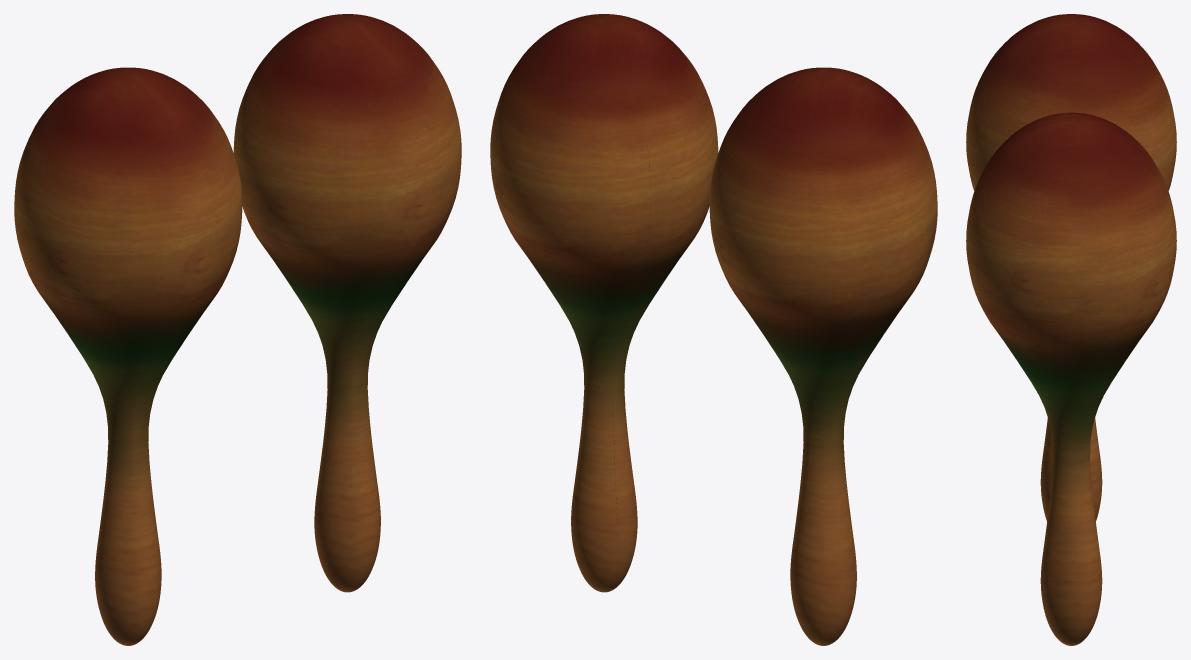
File: maracas.glb
The picture shows the model from 3 angles, left to right: view 1: azimuth 30°, elevation 25°; view 2: azimuth 150°, elevation 25°; view 3: azimuth 270°, elevation 25°; orthographic projection. The views are drawn at different scales.
Visible parts, largest first — view 1: 10388_Maracas; view 2: 10388_Maracas; view 3: 10388_Maracas.
Part boxes in pixels (x1,y1,x2,y2): 10388_Maracas: (14, 14, 461, 645); 10388_Maracas: (490, 14, 937, 645); 10388_Maracas: (966, 14, 1176, 645).
Bounding box in the file's own units: 0.7242 × 0.9433 × 0.3436.
Materials: 1 (1 with a texture image).
